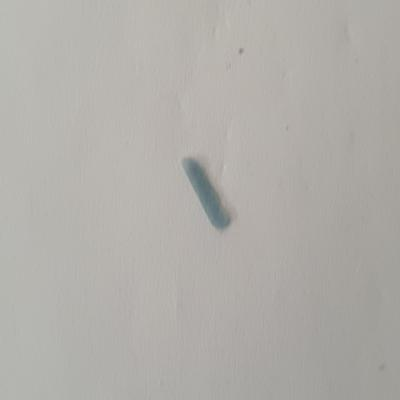plastic: (174, 151, 239, 236)
